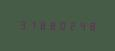eight: (37, 19, 46, 30), (47, 19, 56, 30), (87, 20, 96, 31)
four: (77, 20, 86, 31)
seven: (27, 19, 36, 30)
three: (17, 19, 26, 30)
two: (67, 20, 76, 31)
zero: (57, 19, 66, 31)
